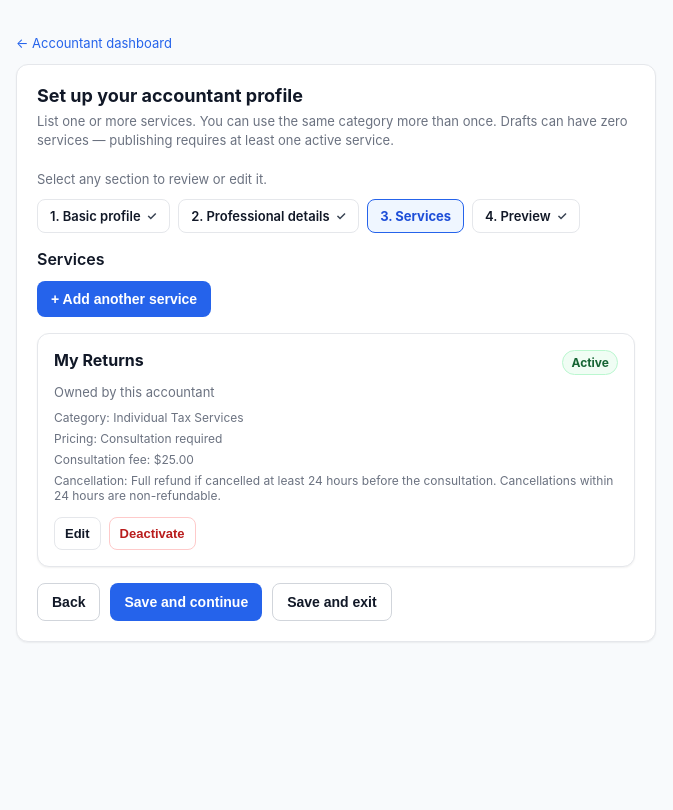
Scenario: can edit a service
The image size is (673, 810).
Check: the text "My Returns" is shown, box [54, 350, 144, 375]
Step 1. Click the button "Edit" → (77, 533), box [54, 517, 101, 550]
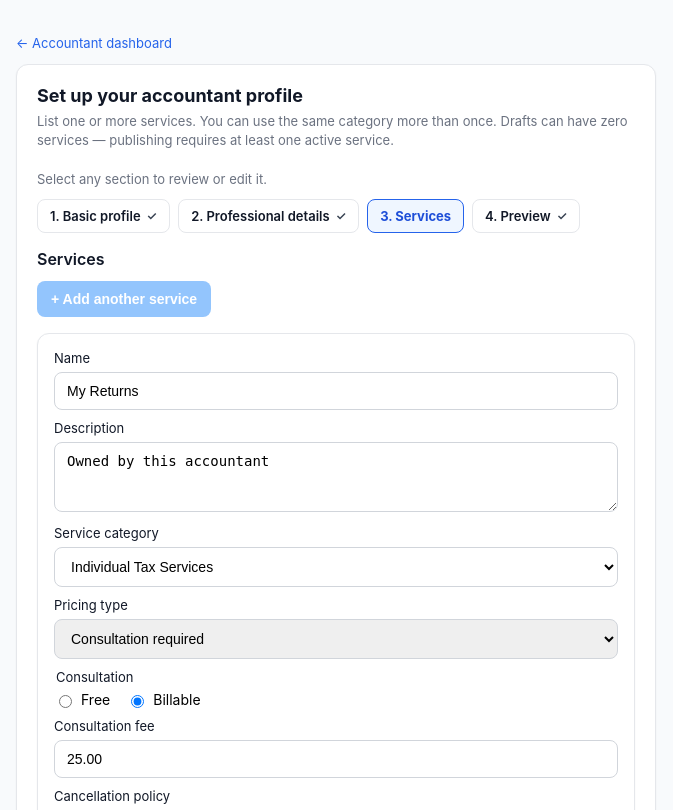
Step 2. Replace the text in the field showing "My Returns" with "Updated Returns" → (336, 391), box [54, 372, 618, 410]
(page scrolled)
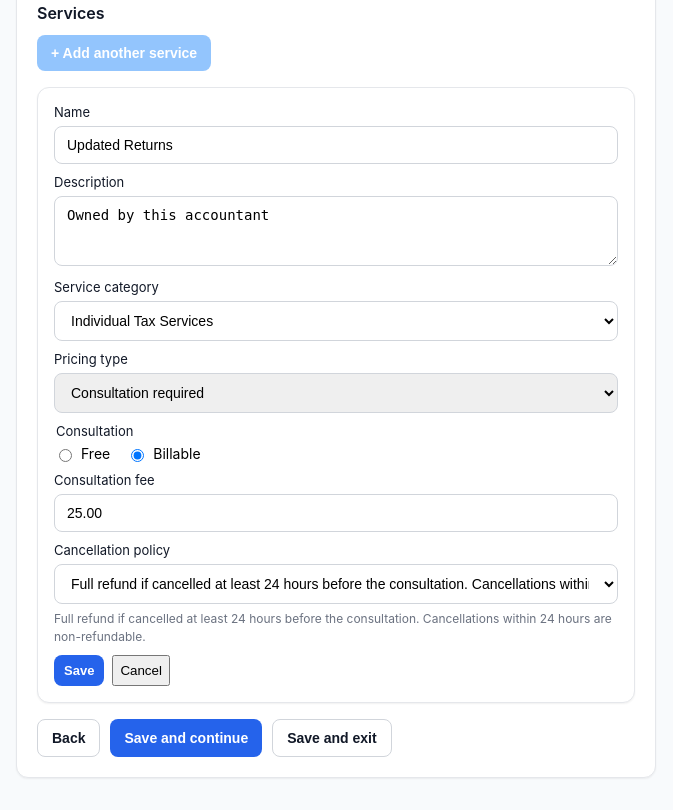
Step 3. Click the button "Save" → (79, 671), box [54, 655, 104, 686]
(page scrolled)
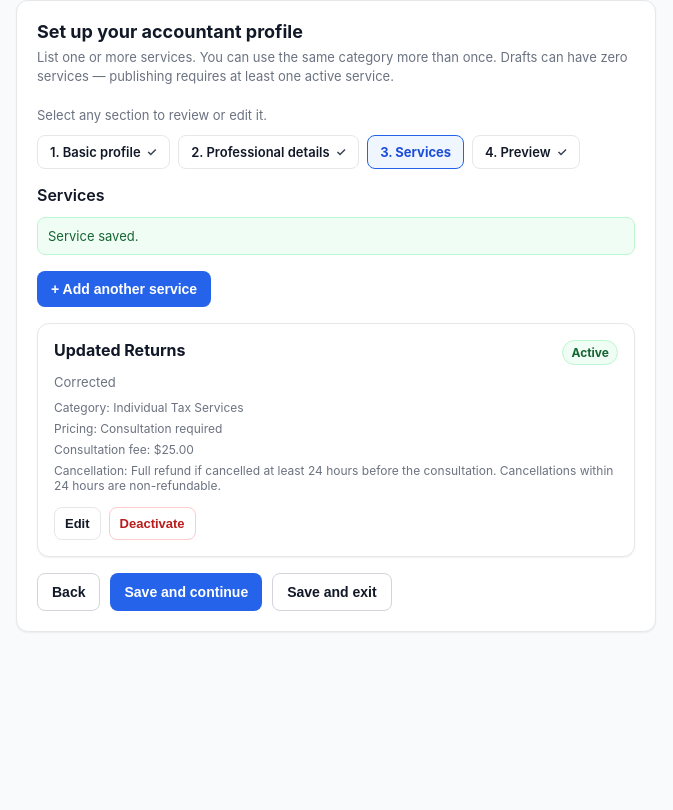
Check: the text "Updated Returns" is shown, box [54, 340, 186, 365]
